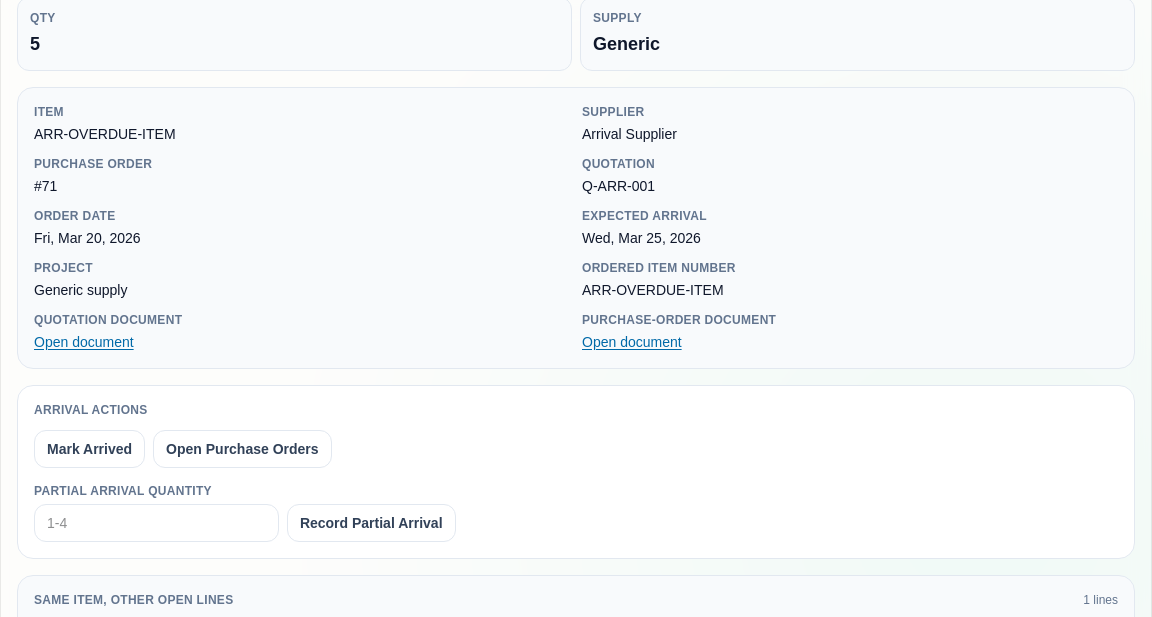
Test: ArrivalPage › submits a partial arrival from the detail pane
(page scrolled)
Type "2" into the number field labelled "Partial arrival quantity" at (156, 523), box [34, 504, 279, 542]
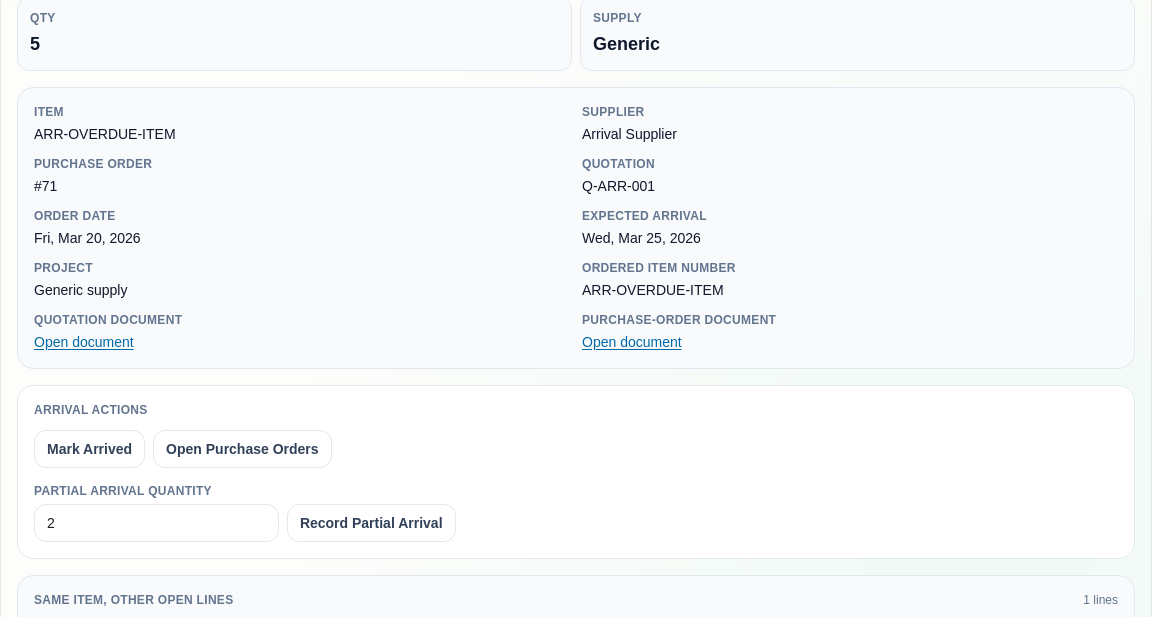
Click the button "Record Partial Arrival" at (371, 523), box [287, 504, 456, 542]
(page scrolled)
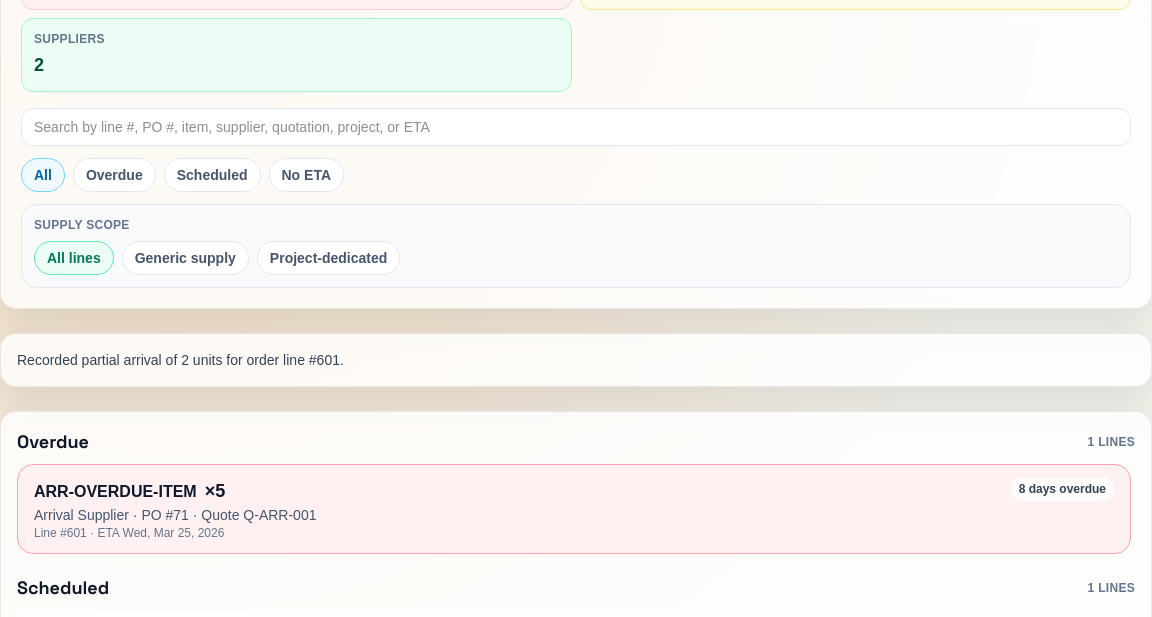
Result: the text "Recorded partial arrival of 2 units for order line #601." is shown at [17, 352, 344, 368]
